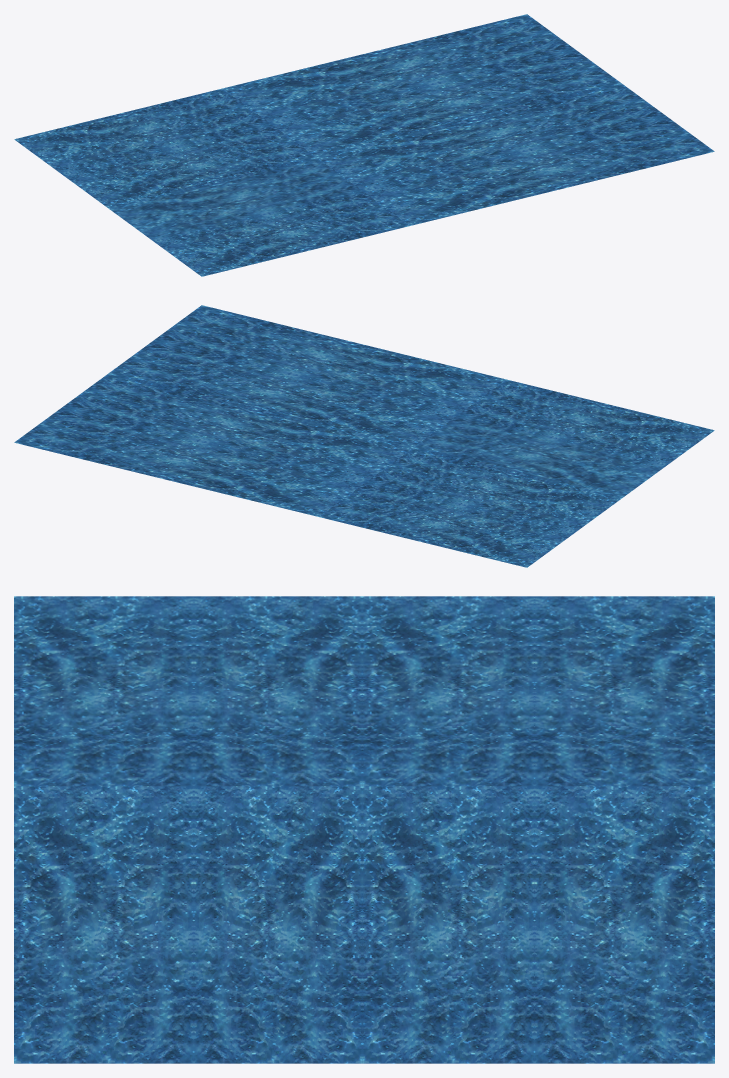
File: ny_seaport_far.fbx
The picture shows the model from 3 angles, top to bottom: view 1: azimuth 30°, elevation 25°; view 2: azimuth 150°, elevation 25°; view 3: azimuth 270°, elevation 25°; orthographic projection. The views are drawn at different scales.
Parts seen in each view (by area): view 1: ny_seaport_far; view 2: ny_seaport_far; view 3: ny_seaport_far.
Part boxes in pixels (bbox=[...]): ny_seaport_far: bbox=[14, 14, 714, 276]; ny_seaport_far: bbox=[14, 305, 714, 567]; ny_seaport_far: bbox=[14, 596, 714, 1063].
Bounding box in the file's own units: 15773 × 1.53e-05 × 10000.
